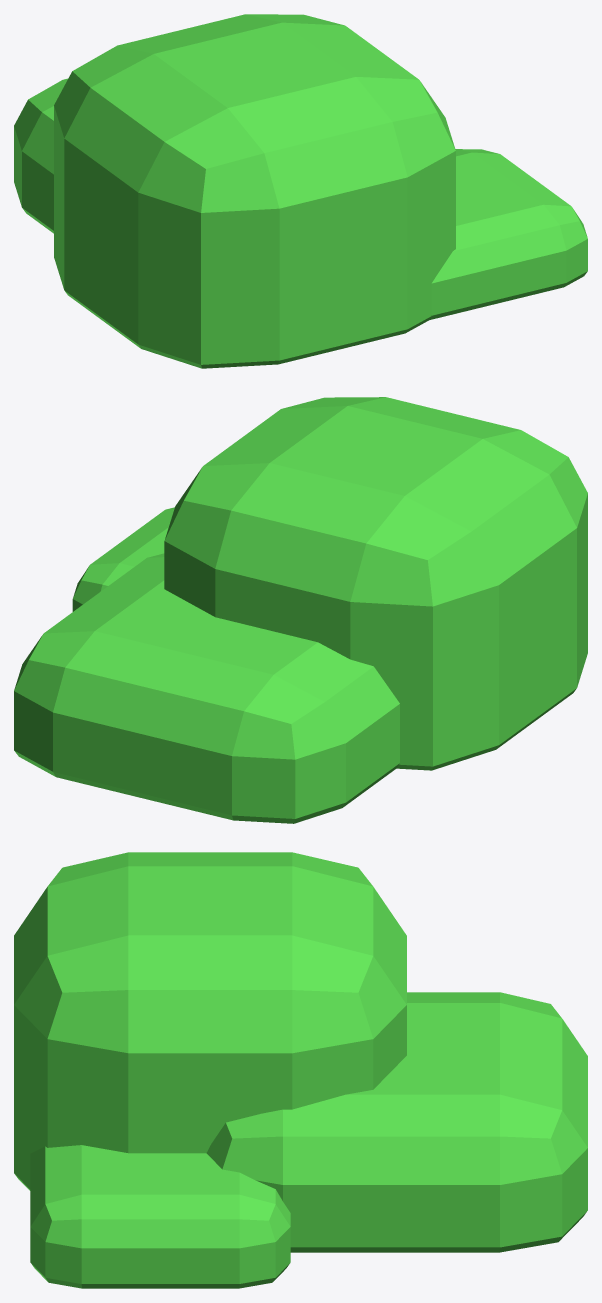
The model's file is Bush_VAR2_v003.fbx.
3 renders of one model, top to bottom at view 1: azimuth 30°, elevation 25°; view 2: azimuth 150°, elevation 25°; view 3: azimuth 270°, elevation 25°, orthographic. The views are drawn at different scales.
Parts seen in each view (by area): view 1: Cube.003; view 2: Cube.003; view 3: Cube.003.
Part boxes in pixels (x1,y1,x2,y2): Cube.003: [14, 14, 587, 368]; Cube.003: [14, 397, 587, 823]; Cube.003: [14, 852, 587, 1288].
Bounding box in the file's own units: 1.69 × 0.8485 × 1.79.
